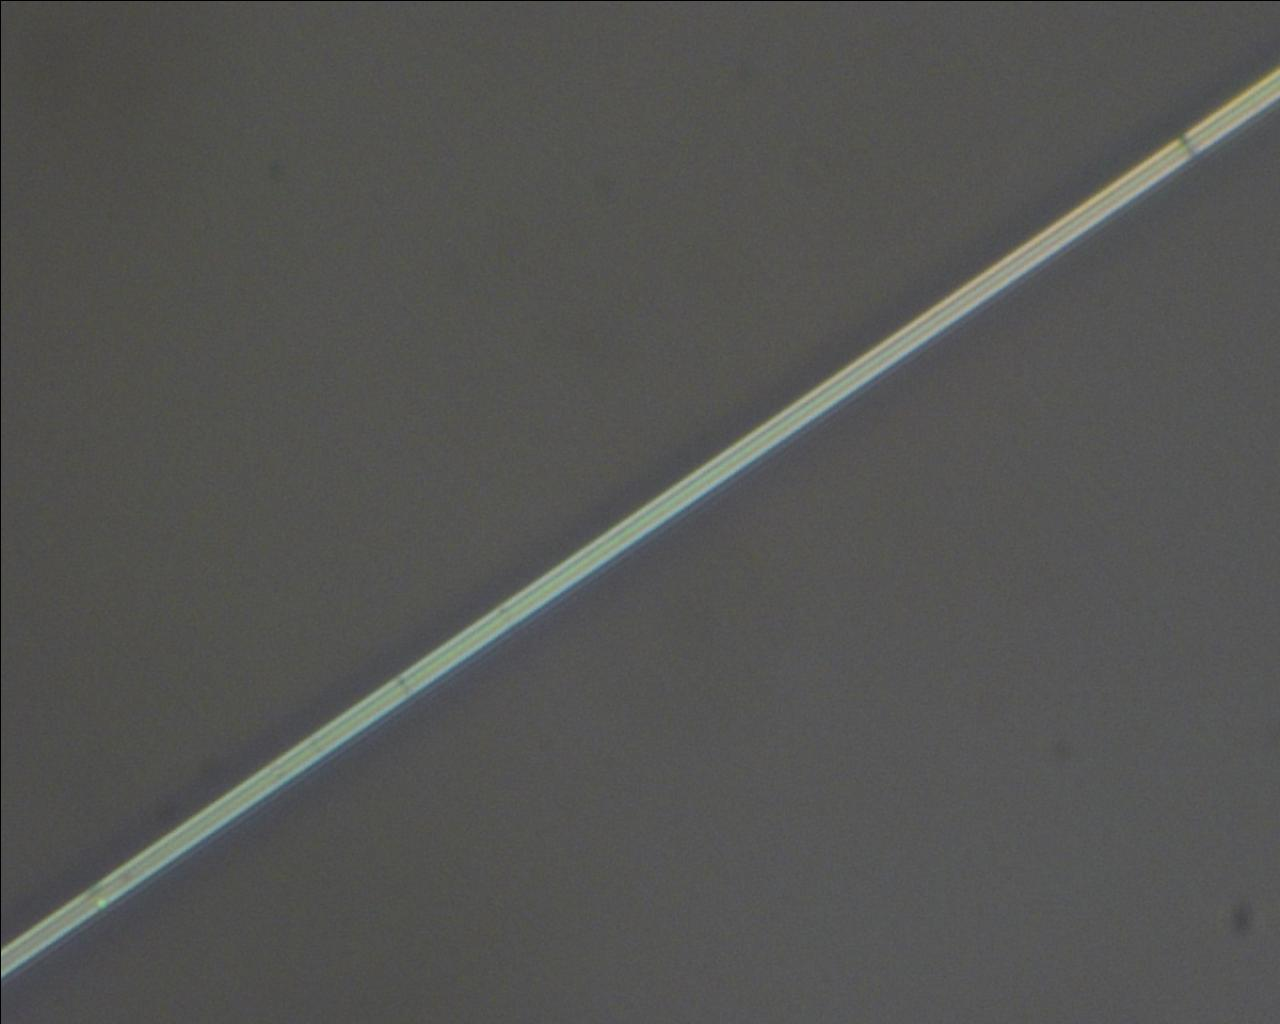fiber: (0, 614, 588, 969), (588, 44, 1174, 250), (0, 236, 588, 427), (856, 614, 1105, 1024)
